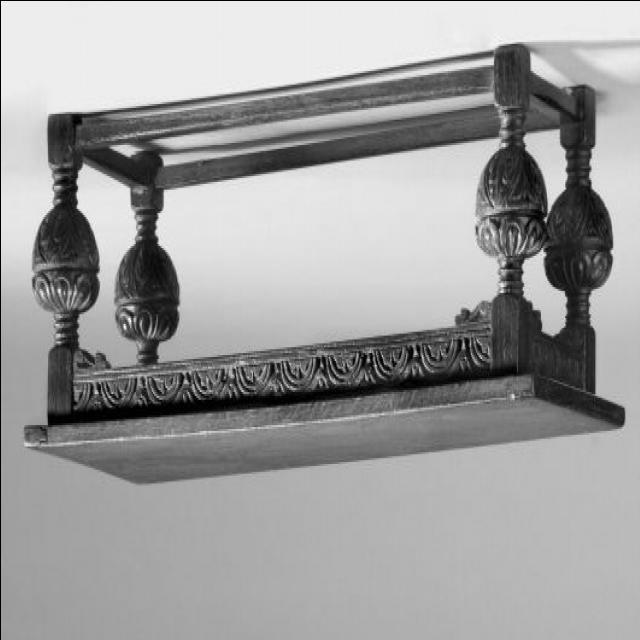table: (24, 42, 626, 490)
